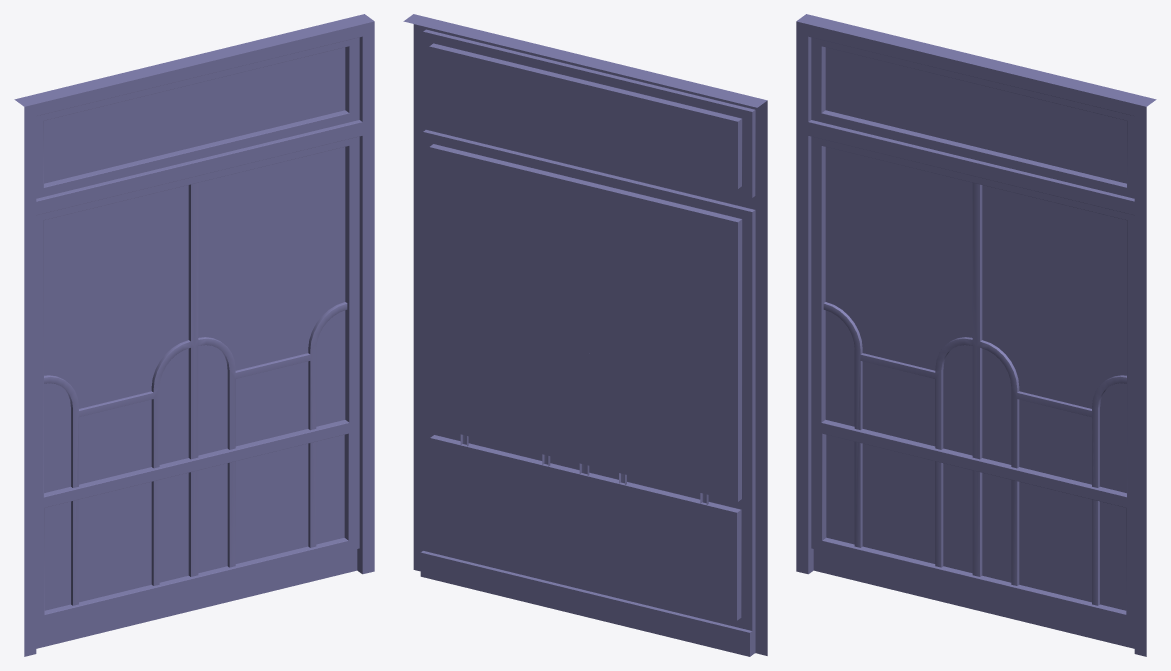
Rendered from M_A_window_02.fbx.
The picture shows the model from 3 angles, left to right: view 1: azimuth 30°, elevation 25°; view 2: azimuth 150°, elevation 25°; view 3: azimuth 330°, elevation 25°; orthographic projection.
Visible parts, largest first — view 1: M_A_window_02; view 2: M_A_window_02; view 3: M_A_window_02.
Part boxes in pixels (x1,y1,x2,y2): M_A_window_02: [14, 14, 374, 656]; M_A_window_02: [403, 14, 767, 656]; M_A_window_02: [796, 14, 1156, 656].
Bounding box in the file's own units: 200 × 300 × 10.
